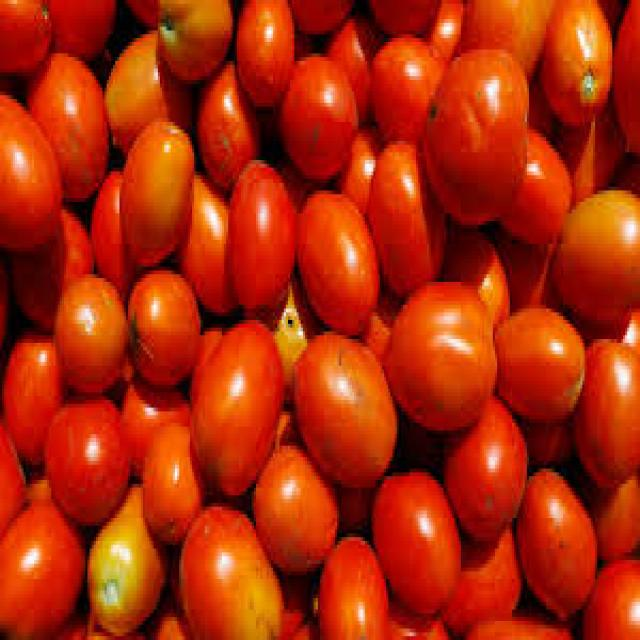Fresh_tomato: (426, 45, 529, 217), (32, 381, 140, 517), (393, 289, 495, 429), (192, 338, 296, 467), (303, 216, 375, 384), (142, 138, 210, 311), (69, 271, 152, 403), (228, 162, 300, 297)
